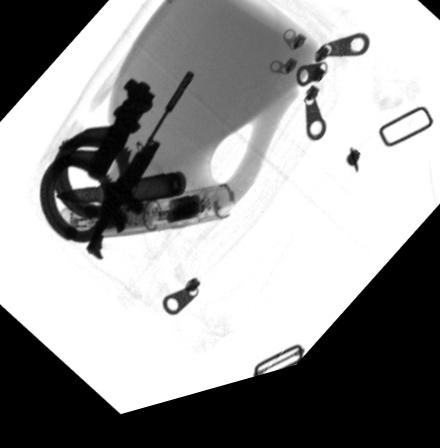Baton: (53, 198, 235, 246)
Bullet: (55, 180, 187, 212)
Gun: (83, 82, 194, 266)
HandCuffs: (39, 84, 157, 248)
